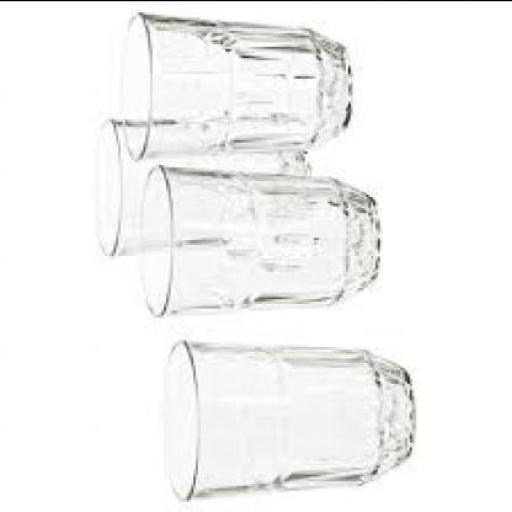glass: (159, 336, 412, 496), (139, 164, 380, 311), (116, 12, 348, 154), (89, 116, 305, 253)
